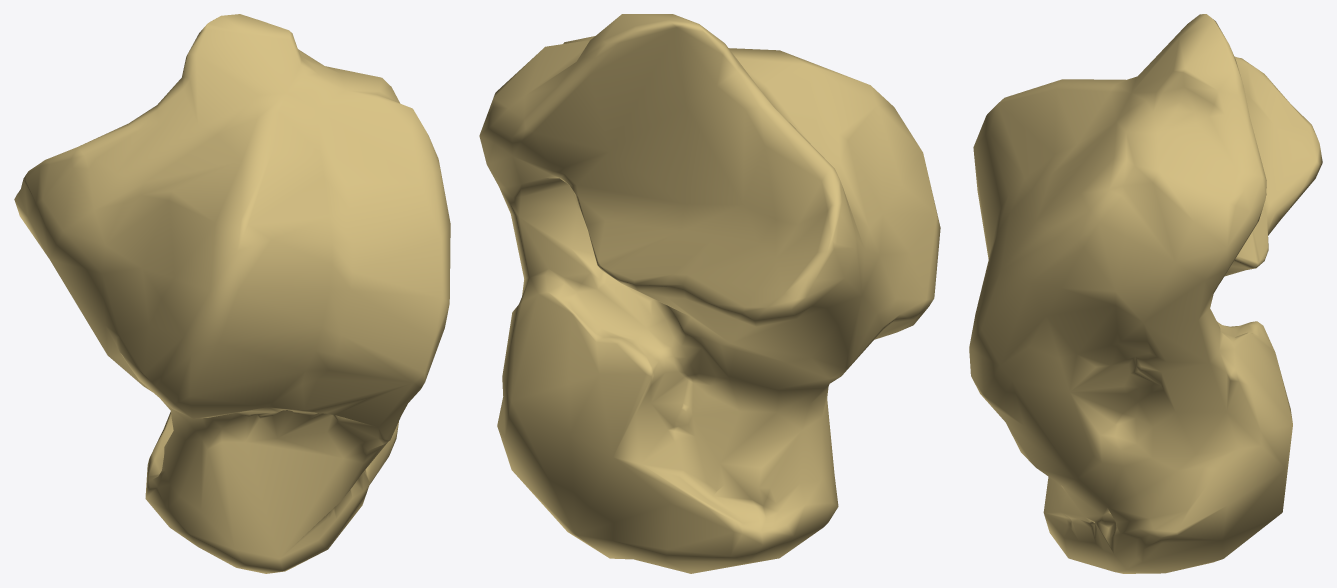
3 views of the same model, side by side, from view 1: azimuth 30°, elevation 25°; view 2: azimuth 150°, elevation 25°; view 3: azimuth 270°, elevation 25° (orthographic). The views are drawn at different scales.
Visible parts, largest first — view 1: 右侧距骨; view 2: 右侧距骨; view 3: 右侧距骨.
Boxes of the visible parts, box(x1,y1,x2,y2) form: 右侧距骨: box(14, 14, 450, 573); 右侧距骨: box(479, 14, 940, 573); 右侧距骨: box(969, 14, 1322, 573).
Bounding box in the file's own units: 0.062 × 0.087 × 0.0525.
